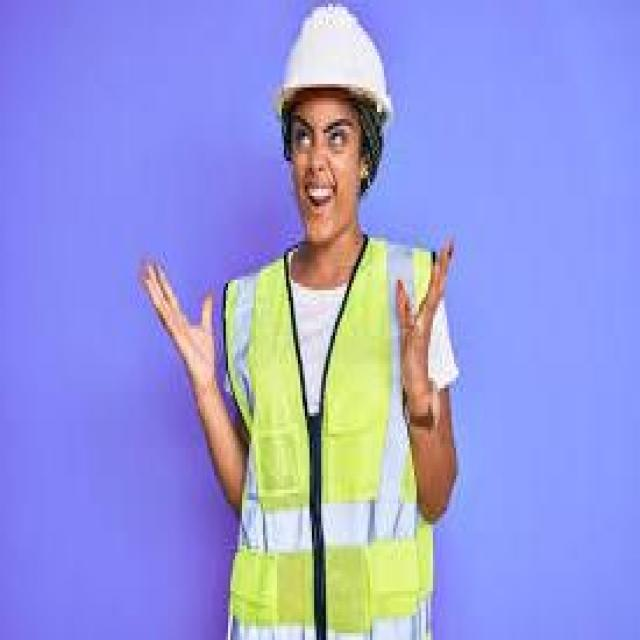Reflective-Jacket: (212, 242, 440, 630)
Safety-Helmet: (270, 4, 393, 130)
